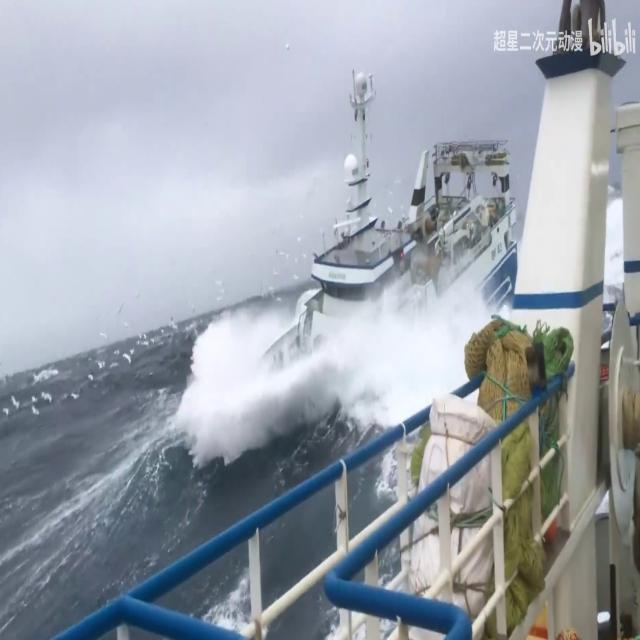houseboat: (226, 71, 521, 439)
